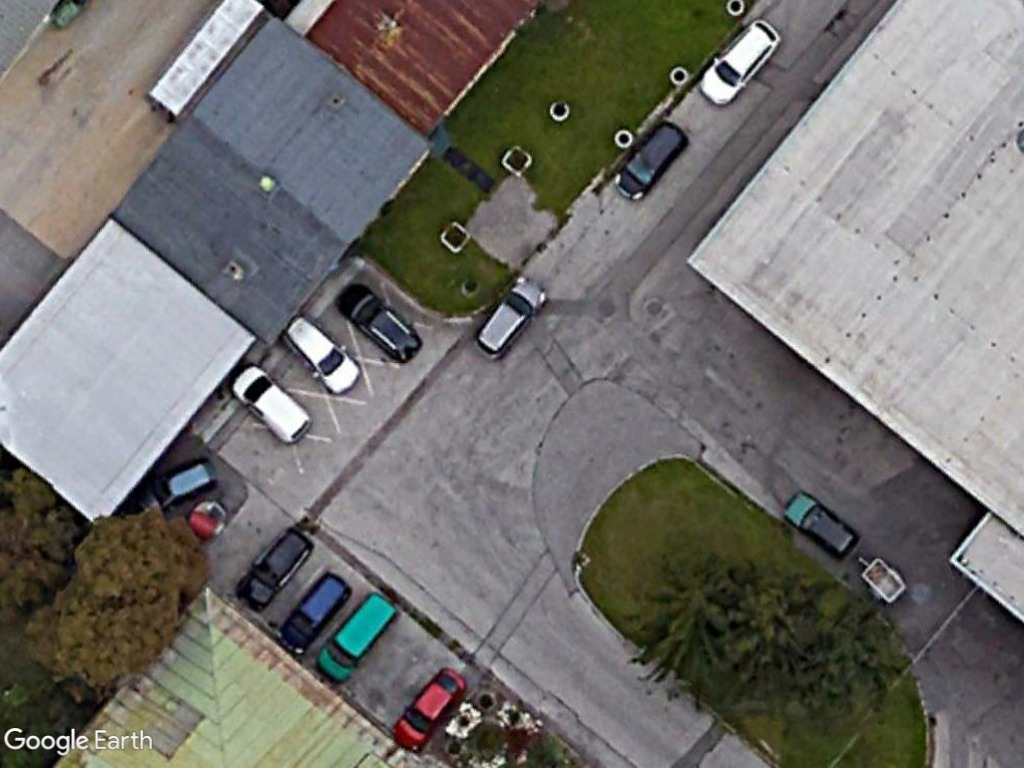car: (694, 14, 786, 110), (272, 565, 357, 662), (335, 281, 426, 366), (383, 666, 468, 756), (469, 269, 552, 361), (605, 117, 693, 202), (278, 311, 365, 396), (232, 525, 313, 615), (780, 488, 864, 563)
van: (312, 588, 406, 685), (230, 365, 316, 449)
